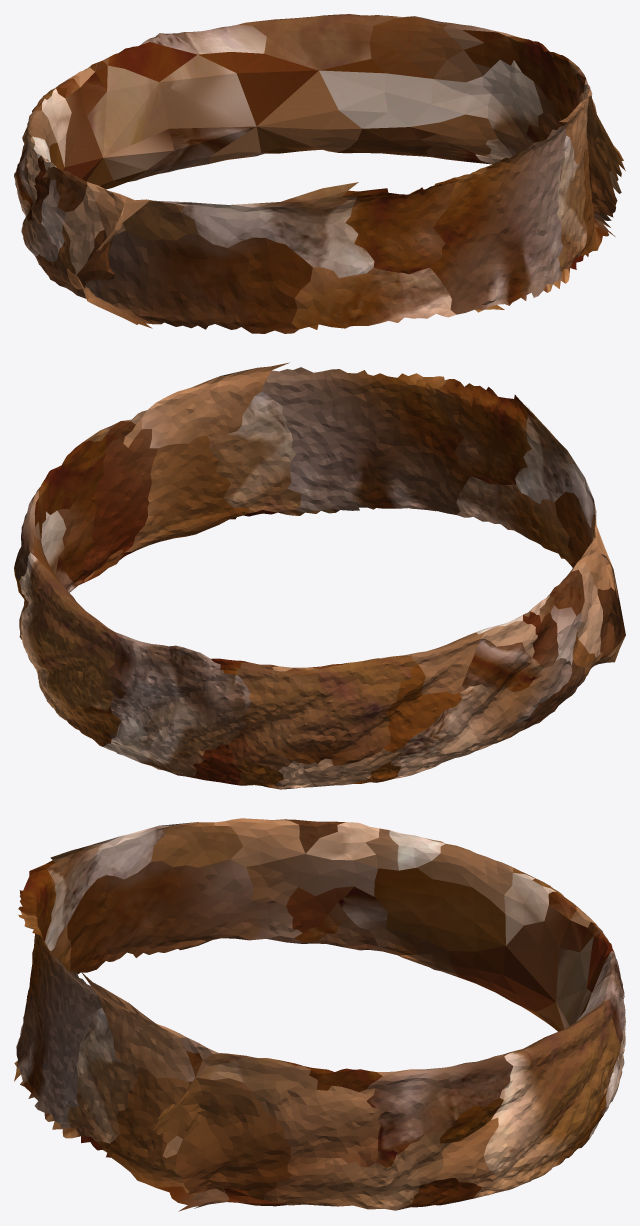
Rendered from 9_bracelet.gltf.
3 renders of one model, top to bottom at view 1: azimuth 30°, elevation 25°; view 2: azimuth 150°, elevation 25°; view 3: azimuth 270°, elevation 25°, orthographic. The views are drawn at different scales.
Parts seen in each view (by area): view 1: model_New Qlone_20240225_114643939; view 2: model_New Qlone_20240225_114643939; view 3: model_New Qlone_20240225_114643939.
Boxes of the visible parts, left/top/right/bottom form: model_New Qlone_20240225_114643939: left=14, top=14, right=625, bottom=333; model_New Qlone_20240225_114643939: left=14, top=362, right=625, bottom=789; model_New Qlone_20240225_114643939: left=14, top=818, right=625, bottom=1211.
Bounding box in the file's own units: 13.37 × 4.75 × 12.79.
